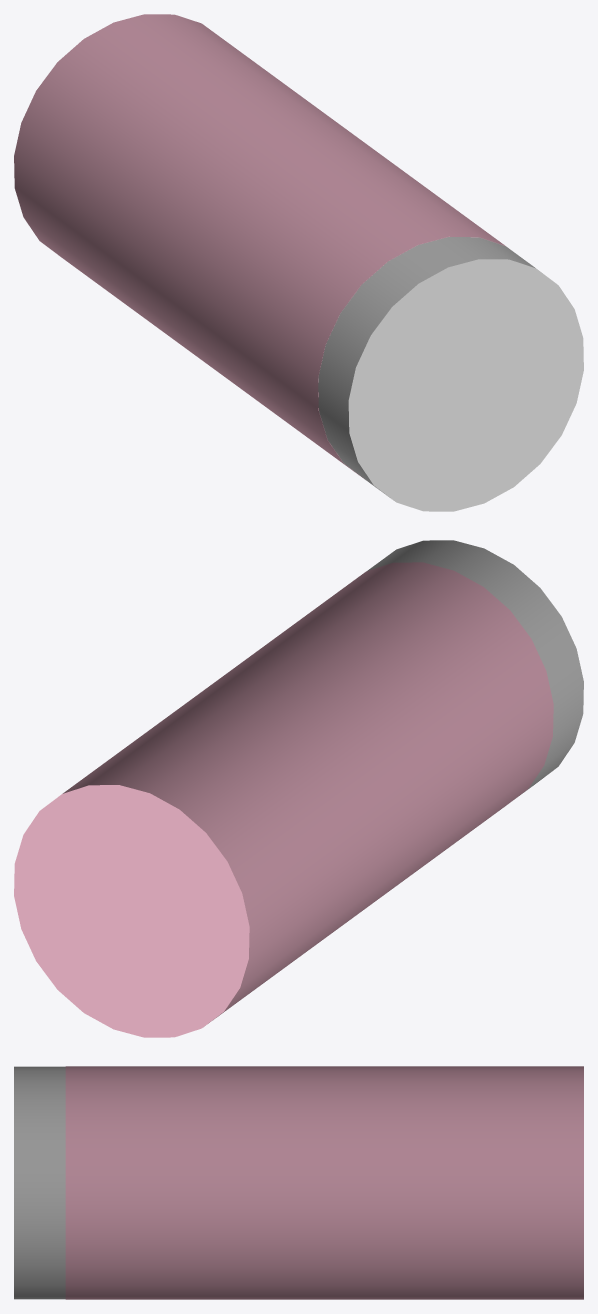
Rendered from model_scale.obj.
3 renders of one model, top to bottom at view 1: azimuth 30°, elevation 25°; view 2: azimuth 150°, elevation 25°; view 3: azimuth 270°, elevation 25°, orthographic. The views are drawn at different scales.
Parts seen in each view (by area): view 1: mesh1_mesh1-geometry; view 2: mesh1_mesh1-geometry; view 3: mesh1_mesh1-geometry.
Part boxes in pixels (<box>): mesh1_mesh1-geometry: <box>14,14,583,511</box>; mesh1_mesh1-geometry: <box>14,540,583,1037</box>; mesh1_mesh1-geometry: <box>14,1066,583,1299</box>.
Size of the model in its own units: 0.0516 by 0.0516 by 0.1269.
